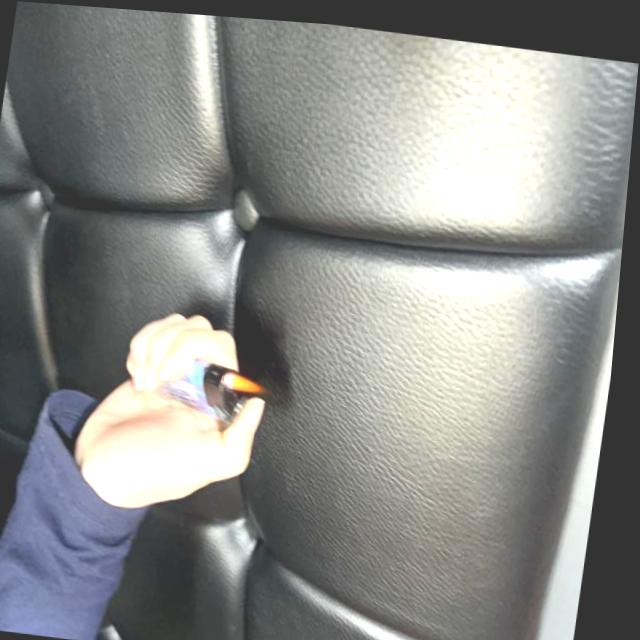helmet: (227, 370, 265, 391)
